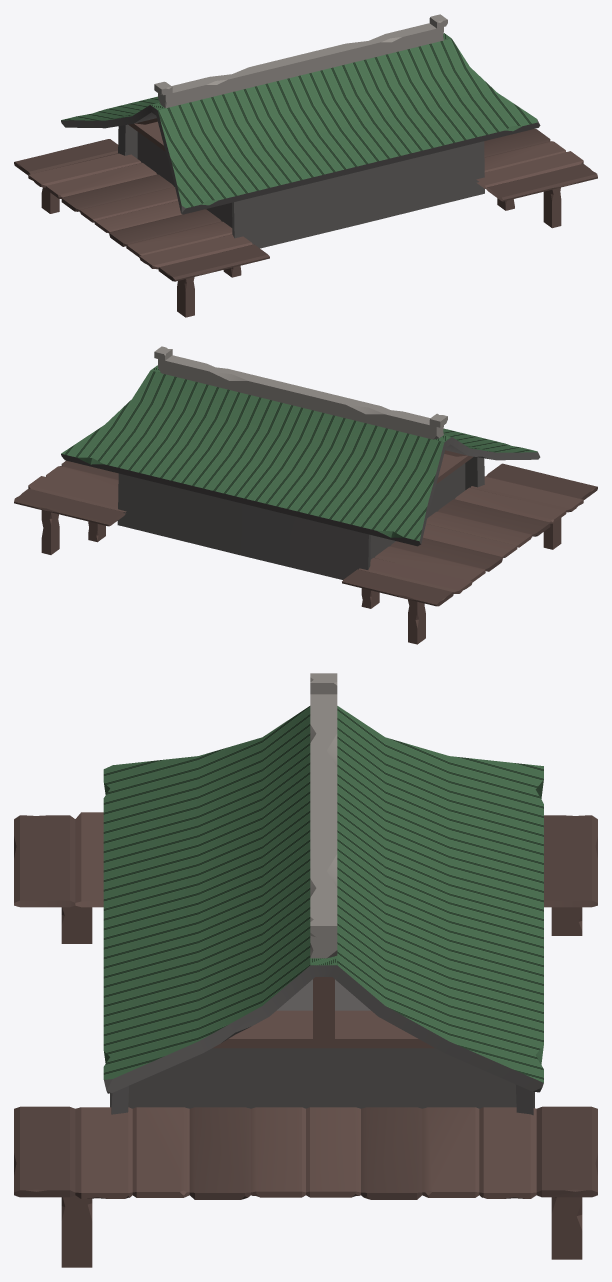
File: SM_Env_Roof_19.fbx
3 renders of one model, top to bottom at view 1: azimuth 30°, elevation 25°; view 2: azimuth 150°, elevation 25°; view 3: azimuth 270°, elevation 25°, orthographic. The views are drawn at different scales.
Visible parts, largest first — view 1: SM_Env_Roof_19; view 2: SM_Env_Roof_19; view 3: SM_Env_Roof_19.
Part boxes in pixels (x1,y1,x2,y2): SM_Env_Roof_19: (14,14,597,317); SM_Env_Roof_19: (14,346,597,644); SM_Env_Roof_19: (14,673,597,1267).
Size of the model in its own units: 259 by 95.66 by 168.
Materials: 1 (1 with a texture image).
